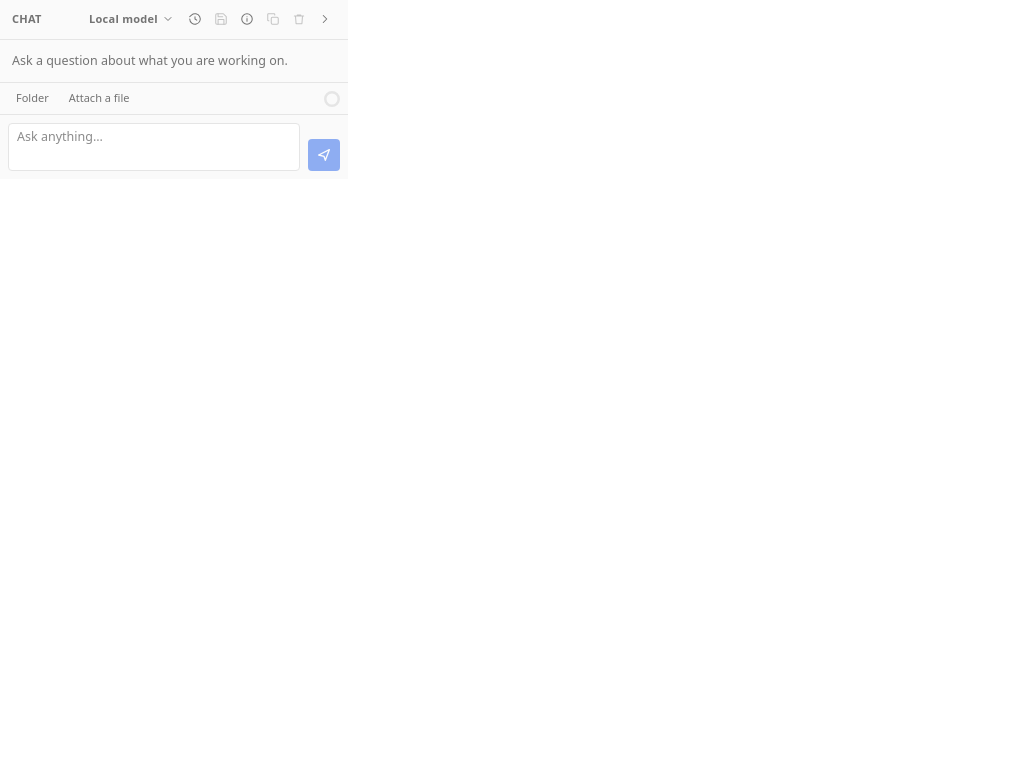
Scenario: chat statistics › shows how the most recent reply went
Click the button named "Chat statistics".
click(247, 19)  # box [236,8,258,30]
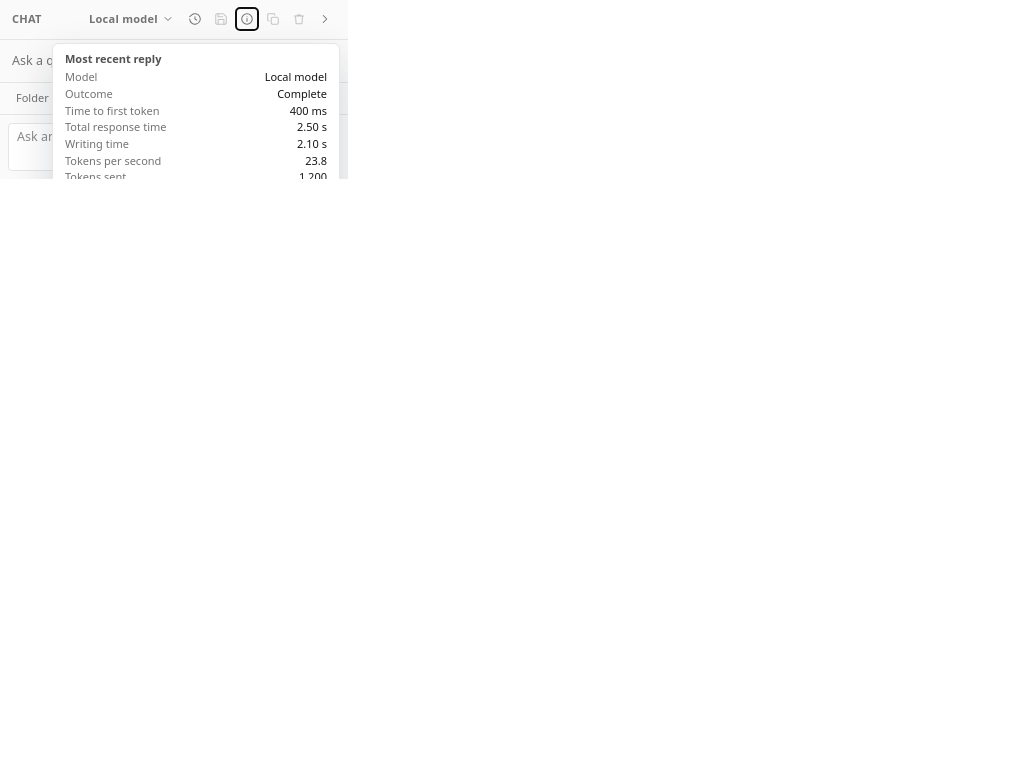
Check: the 1st text "Local model" is shown, box [89,12,158,27]
Check: the text "400 ms" is shown, box [290,103,327,118]
Check: the text "2.50 s" is shown, box [297,119,327,134]
